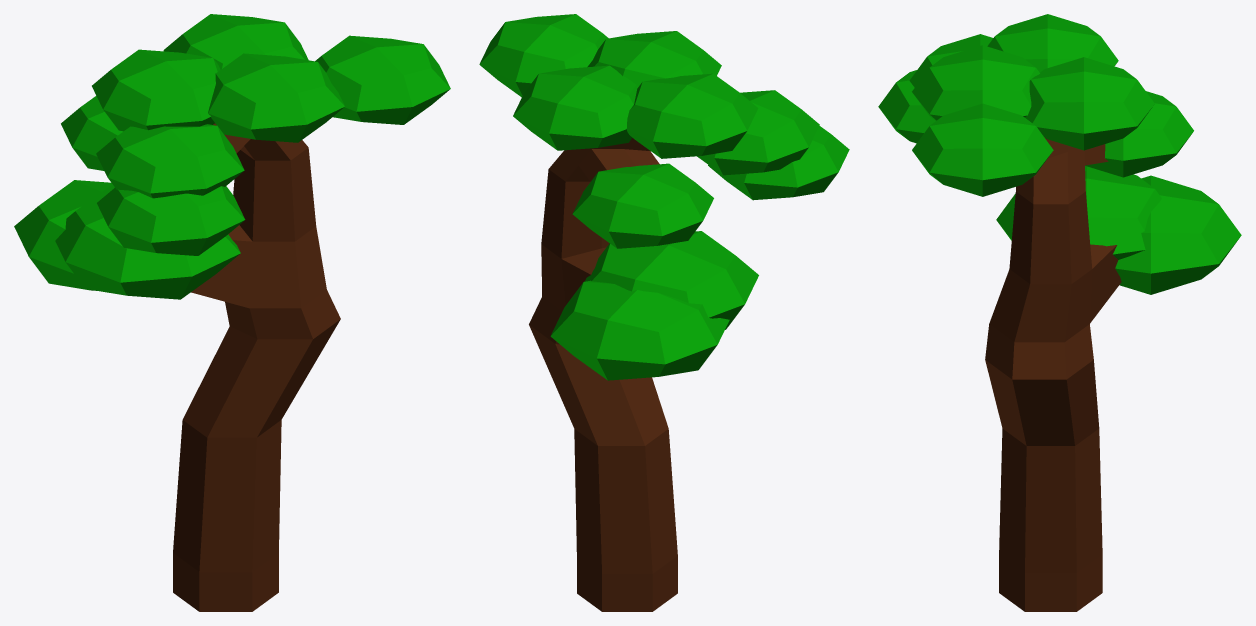
File: Trees02.obj
3 views of the same model, side by side, from view 1: azimuth 30°, elevation 25°; view 2: azimuth 150°, elevation 25°; view 3: azimuth 270°, elevation 25° (orthographic). The views are drawn at different scales.
Parts seen in each view (by area): view 1: Tree02_Circle.002; view 2: Tree02_Circle.002; view 3: Tree02_Circle.002.
Part boxes in pixels (x1=…): Tree02_Circle.002: x1=14, y1=14, x2=450, y2=611; Tree02_Circle.002: x1=479, y1=14, x2=849, y2=611; Tree02_Circle.002: x1=878, y1=14, x2=1241, y2=611.
Bounding box in the file's own units: 7.59 × 11.46 × 7.02.
